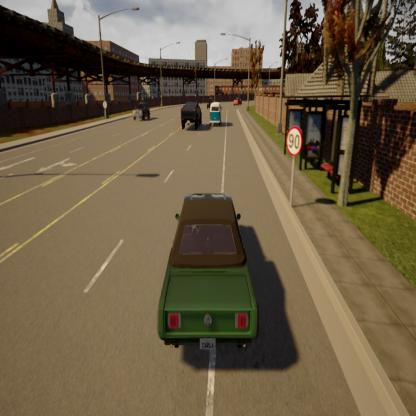Cars: (151, 171, 268, 366), (177, 96, 203, 138), (206, 94, 224, 133), (132, 94, 154, 125), (232, 89, 243, 110)
